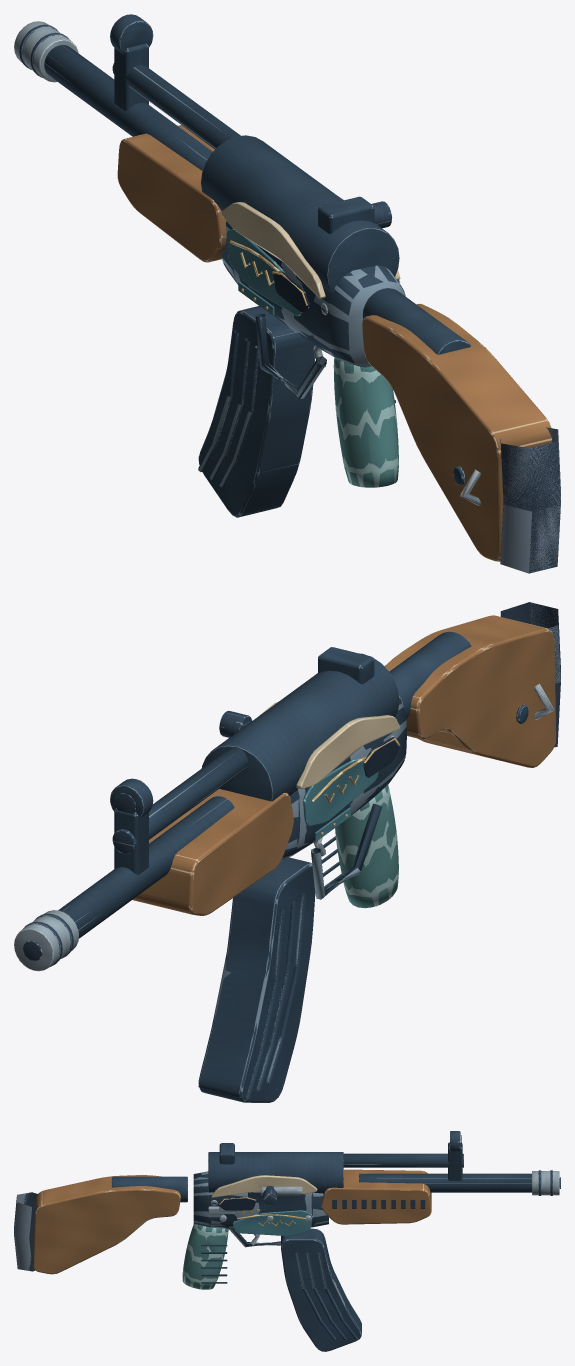
The model's file is anime-ak47.glb.
The picture shows the model from 3 angles, top to bottom: view 1: azimuth 30°, elevation 25°; view 2: azimuth 150°, elevation 25°; view 3: azimuth 270°, elevation 25°; orthographic projection. The views are drawn at different scales.
Visible parts, largest first — view 1: weapon_Parkerized steel, weapon_Weapon finish / Walnut laminate, weapon_Weapon finish / Parkerized steel, World hardware, weapon_Polymer, weapon_Walnut laminate, World paint, weapon_Weapon finish / Ivory enamel, weapon_Inset blue ceramic, magazine_Parkerized steel, weapon_Machined edges, weapon_Recessed graphite mechanism; view 2: weapon_Parkerized steel, weapon_Weapon finish / Walnut laminate, weapon_Weapon finish / Parkerized steel, World hardware, weapon_Walnut laminate, magazine_Parkerized steel, weapon_Weapon finish / Ivory enamel, weapon_Inset blue ceramic, weapon_Polymer, weapon_Machined edges, World paint, weapon_Recessed graphite mechanism; view 3: weapon_Weapon finish / Walnut laminate, weapon_Parkerized steel, weapon_Weapon finish / Parkerized steel, World hardware, weapon_Walnut laminate, weapon_Polymer, weapon_Inset blue ceramic, World paint, weapon_Weapon finish / Ivory enamel, weapon_Machined edges, magazine_Parkerized steel, weapon_Recessed graphite mechanism (+2 smaller).
Part boxes in pixels (x1,y1,x2,y2): weapon_Parkerized steel: (44,14,471,517); weapon_Weapon finish / Walnut laminate: (117,125,551,561); weapon_Weapon finish / Parkerized steel: (201,135,404,367); World hardware: (14,14,560,573); weapon_Polymer: (19,24,560,573); weapon_Walnut laminate: (334,358,398,487); World paint: (117,125,551,561); weapon_Weapon finish / Ivory enamel: (221,196,399,298); weapon_Inset blue ceramic: (226,228,301,316); magazine_Parkerized steel: (198,330,258,487); weapon_Machined edges: (14,21,480,505); weapon_Recessed graphite mechanism: (273,271,398,312); weapon_Parkerized steel: (58,631,528,1102); weapon_Weapon finish / Walnut laminate: (132,615,556,915); weapon_Weapon finish / Parkerized steel: (202,654,406,859); World hardware: (14,603,560,1102); weapon_Walnut laminate: (335,785,398,908); magazine_Parkerized steel: (198,892,306,1099); weapon_Weapon finish / Ivory enamel: (258,702,399,789); weapon_Inset blue ceramic: (303,758,378,841); weapon_Polymer: (22,602,560,966); weapon_Machined edges: (14,683,553,970); World paint: (139,615,555,915); weapon_Recessed graphite mechanism: (363,737,399,777); weapon_Weapon finish / Walnut laminate: (33,1169,431,1274); weapon_Parkerized steel: (111,1131,531,1351); weapon_Weapon finish / Parkerized steel: (193,1152,343,1228); World hardware: (14,1131,560,1351); weapon_Walnut laminate: (182,1224,228,1289); weapon_Polymer: (14,1135,560,1271); weapon_Inset blue ceramic: (233,1210,312,1235); World paint: (33,1152,431,1274); weapon_Weapon finish / Ivory enamel: (211,1175,317,1197); weapon_Machined edges: (208,1171,559,1221); magazine_Parkerized steel: (296,1252,358,1340); weapon_Recessed graphite mechanism: (219,1196,255,1210).
Bounding box in the file's own units: 0.1331 × 0.4032 × 0.931.
Materials: 12 (10 with a texture image).
